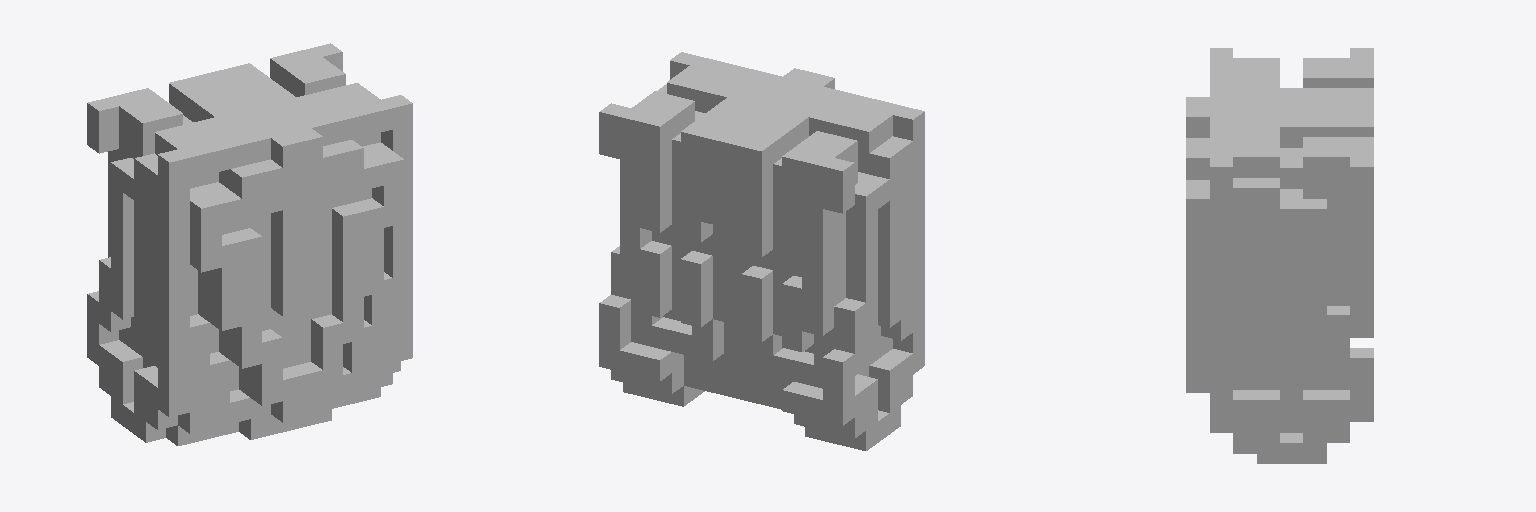
The model's file is VeryLargeArmorKit_LOD0.obj.
3 renders of one model, left to right at view 1: azimuth 30°, elevation 25°; view 2: azimuth 150°, elevation 25°; view 3: azimuth 270°, elevation 25°, orthographic.
Parts seen in each view (by area): view 1: object 1; view 2: object 1; view 3: object 1.
Boxes of the visible parts, <box> form: object 1: <box>87,43,412,445</box>; object 1: <box>599,52,924,450</box>; object 1: <box>1186,48,1373,463</box>.
Size of the model in its own units: 1.2 by 1.4 by 0.8.